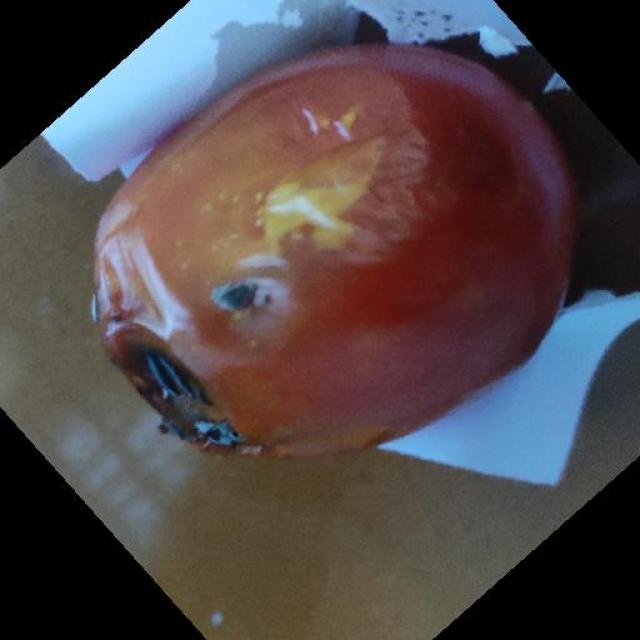Stale_tomato: (118, 54, 564, 419)
